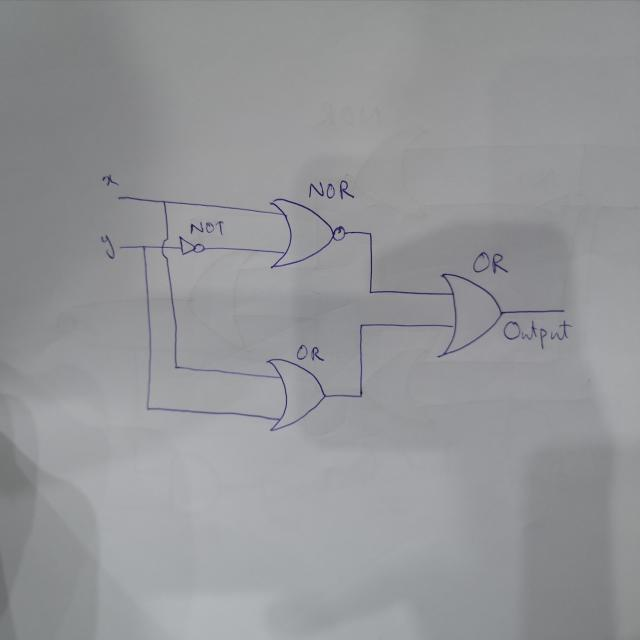crossover: (158, 236, 172, 261)
junction: (365, 228, 375, 238), (356, 390, 365, 400), (144, 402, 152, 413), (172, 361, 180, 371), (366, 286, 374, 296), (160, 196, 167, 205), (357, 322, 365, 329), (140, 243, 146, 250)
terminal: (114, 193, 122, 201), (117, 243, 125, 251), (561, 307, 568, 314)
text: (501, 318, 571, 352), (305, 178, 356, 204), (470, 251, 509, 278), (188, 218, 226, 238), (295, 342, 325, 363), (99, 232, 116, 260), (100, 174, 118, 186)
